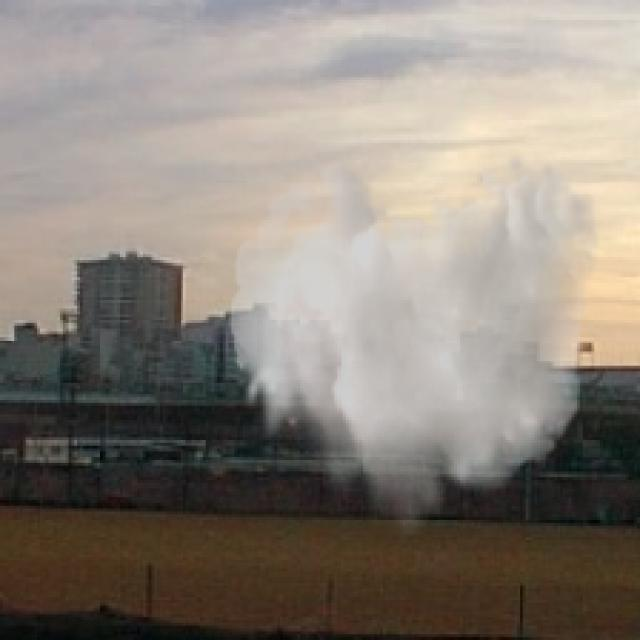smoke: (229, 148, 600, 543)
